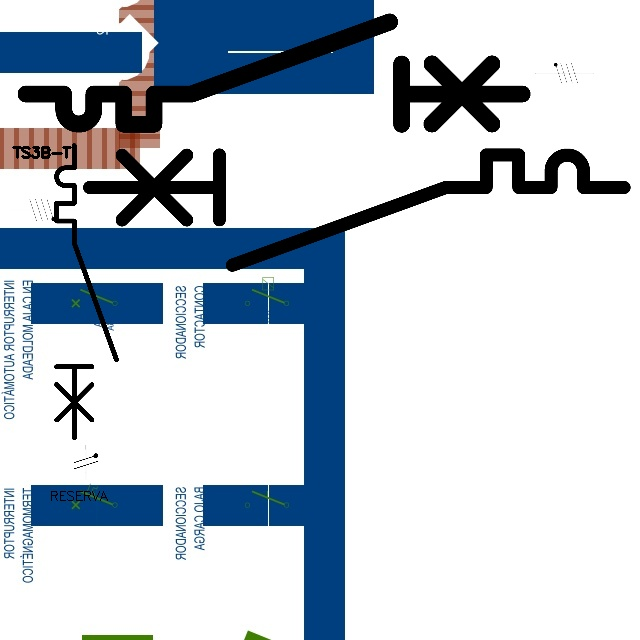interruptor_termomagnetico: (75, 141, 637, 278), (13, 9, 535, 137), (49, 138, 124, 445)
